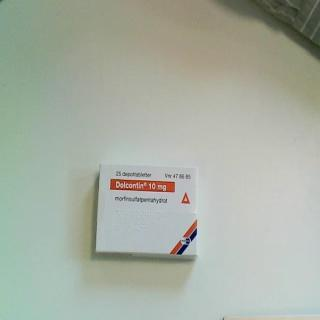dolcontin10mg: (94, 162, 200, 264)
